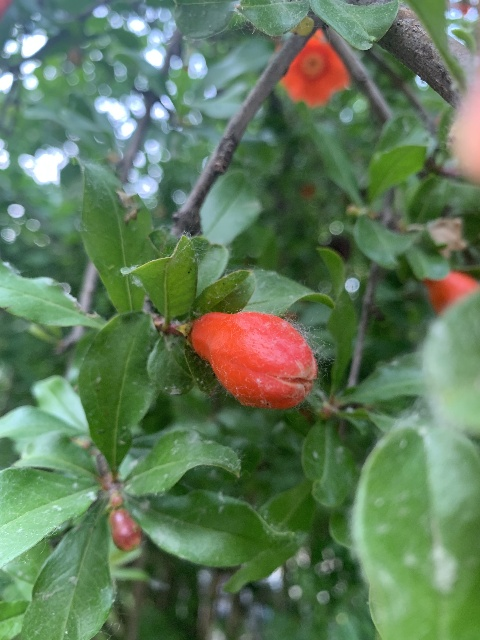bud: (189, 310, 317, 409), (109, 508, 142, 551)
flower: (280, 27, 351, 108)
